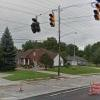Traffic light: (23, 6, 66, 37)
